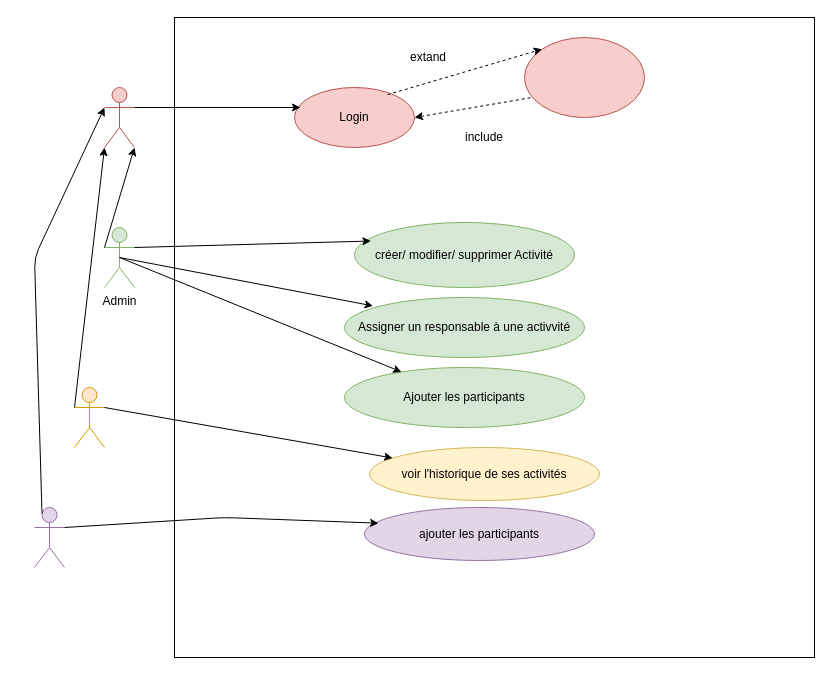
This 832x675 diagram has some shape labels left out. The shapes that lost their labels are listed below. From the top down, each one's centre as x and y in pixels, then its label:
At point 584,77: "forget password".
At point 119,117: "user".
At point 89,417: "participant".
At point 49,537: "responsable".
